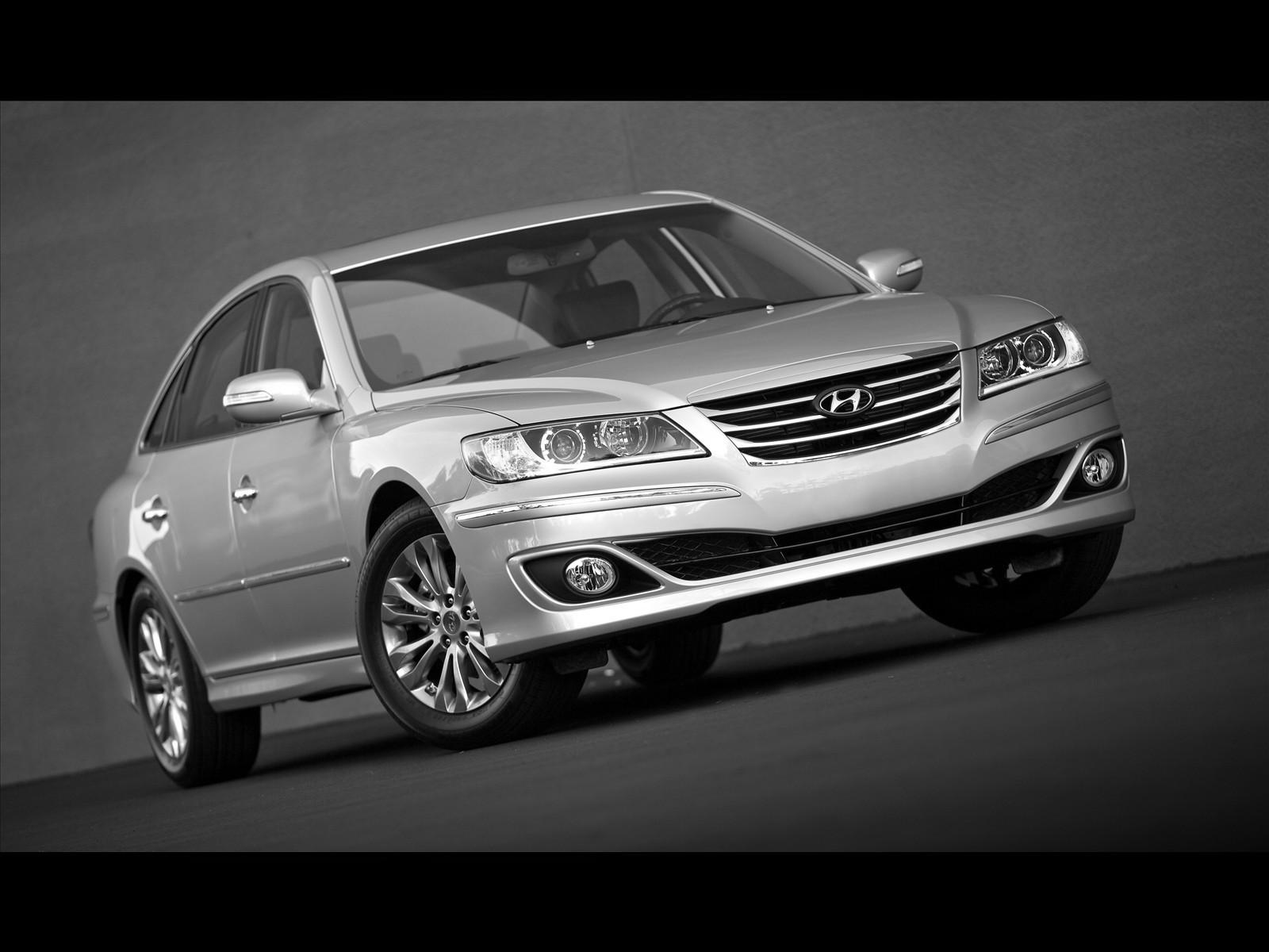car: (75, 194, 1162, 770)
